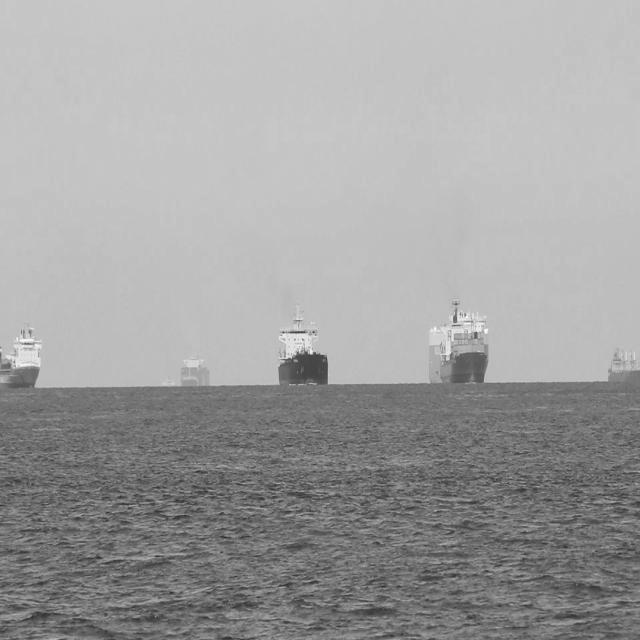ship: (428, 295, 492, 390), (276, 296, 330, 388), (0, 322, 44, 392), (605, 347, 639, 387), (179, 354, 212, 391), (158, 375, 178, 393)
